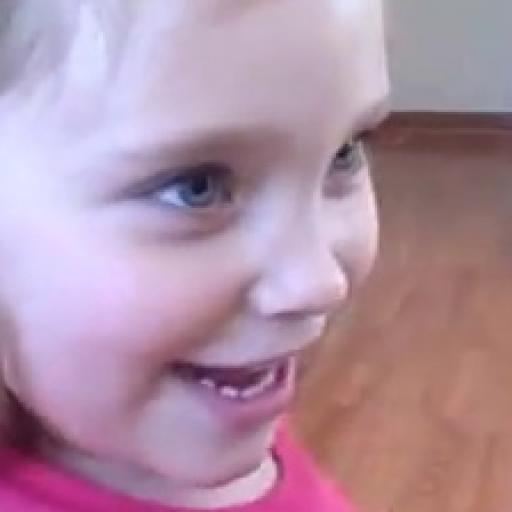Autism: (0, 12, 405, 488)
